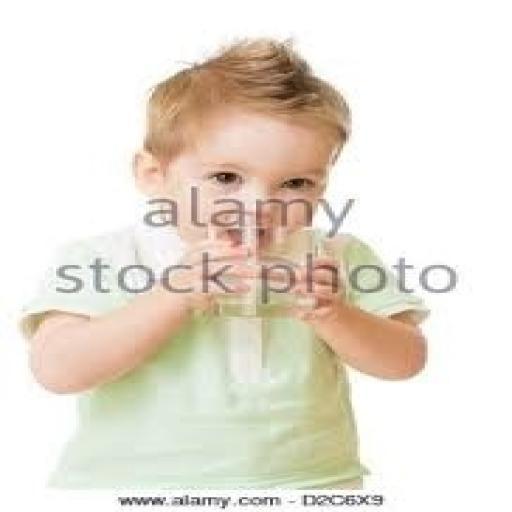drinking: (17, 35, 430, 490)
